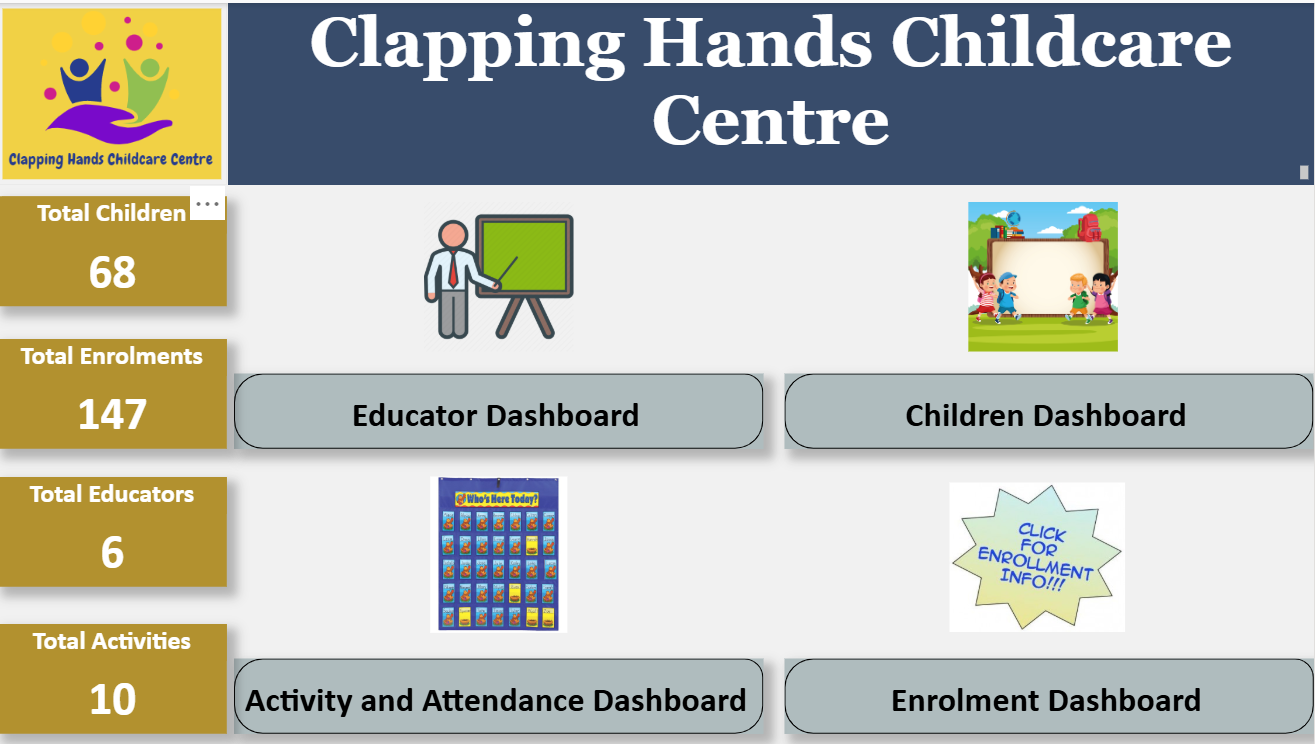

This screenshot's page, from the dashboard's own definition file:
{"tool":"powerbi","page":{"name":"Homepage","canvas":[1280,720],"ordinal":0},"visuals":[{"type":"actionButton","box":[765.6,636.7,514.4,73.1],"z":0},{"type":"actionButton","box":[229.9,636.7,514.4,73.1],"z":1000},{"type":"actionButton","box":[229.9,360.2,514.4,73.1],"z":2000},{"type":"actionButton","box":[765.6,360.2,514,73.1],"z":3000},{"type":"textbox","title":"Clapping Hands Childcare Centre","box":[224.1,0,1054.9,176.5],"z":4000},{"type":"card","title":"Total Educators","fields":{"Values":["CountNonNull(Educator.educator_id)"]},"box":[0,461.2,223.3,106.3],"z":5000},{"type":"card","title":"Total Children","fields":{"Values":["CountNonNull(Child.child_id)"]},"box":[0,187.4,223.3,106.3],"z":6000},{"type":"card","title":"Total Activities","fields":{"Values":["Count(ChildAttendance.activity_id)"]},"box":[0,603.4,223.3,106.3],"z":7000},{"type":"image","box":[229.9,187.4,514.4,155.5],"z":8000},{"type":"image","box":[765.6,187.4,502.4,155.5],"z":9000},{"type":"image","box":[229.9,454.6,514.4,162.2],"z":10000},{"type":"image","box":[753.6,461.2,514.4,155.5],"z":11000},{"type":"card","title":"Total Enrolments","fields":{"Values":["Count(Enrollment.enrollment_id)"]},"box":[0,327,223.3,106.3],"z":12000},{"type":"image","box":[0,0,222.8,176.5],"z":13000}]}

Visuals, with their boxes in screenshot pixels (x1, y1, x2, y2), scaled from the page's 1280x720 canvas onto the 1315x744 screenshot:
actionButton: [787,658,1314,733]
actionButton: [236,658,765,733]
actionButton: [236,372,765,448]
actionButton: [787,372,1314,448]
"Clapping Hands Childcare Centre" textbox: [230,0,1314,182]
"Total Educators" card: [0,477,229,586]
"Total Children" card: [0,194,229,303]
"Total Activities" card: [0,624,229,733]
image: [236,194,765,354]
image: [787,194,1303,354]
image: [236,470,765,637]
image: [774,477,1303,637]
"Total Enrolments" card: [0,338,229,448]
image: [0,0,229,182]
